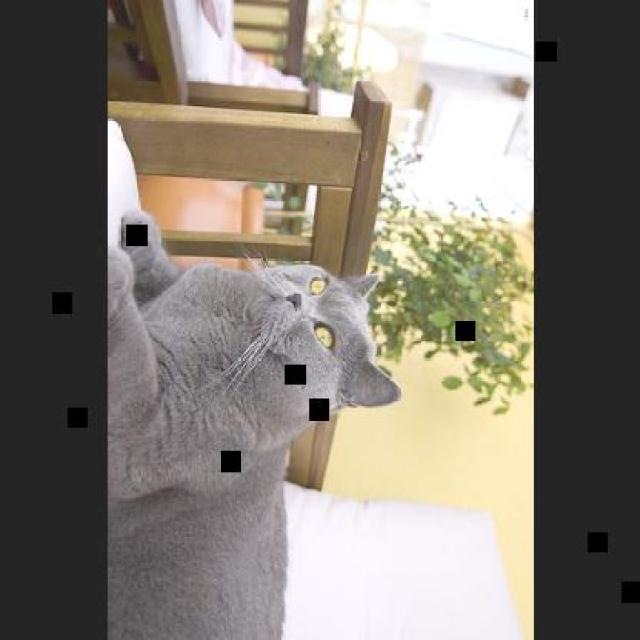unauthorized: (106, 207, 402, 638)
